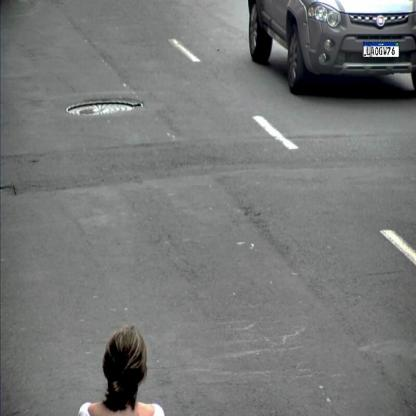PlacaM: (363, 42, 399, 58)
